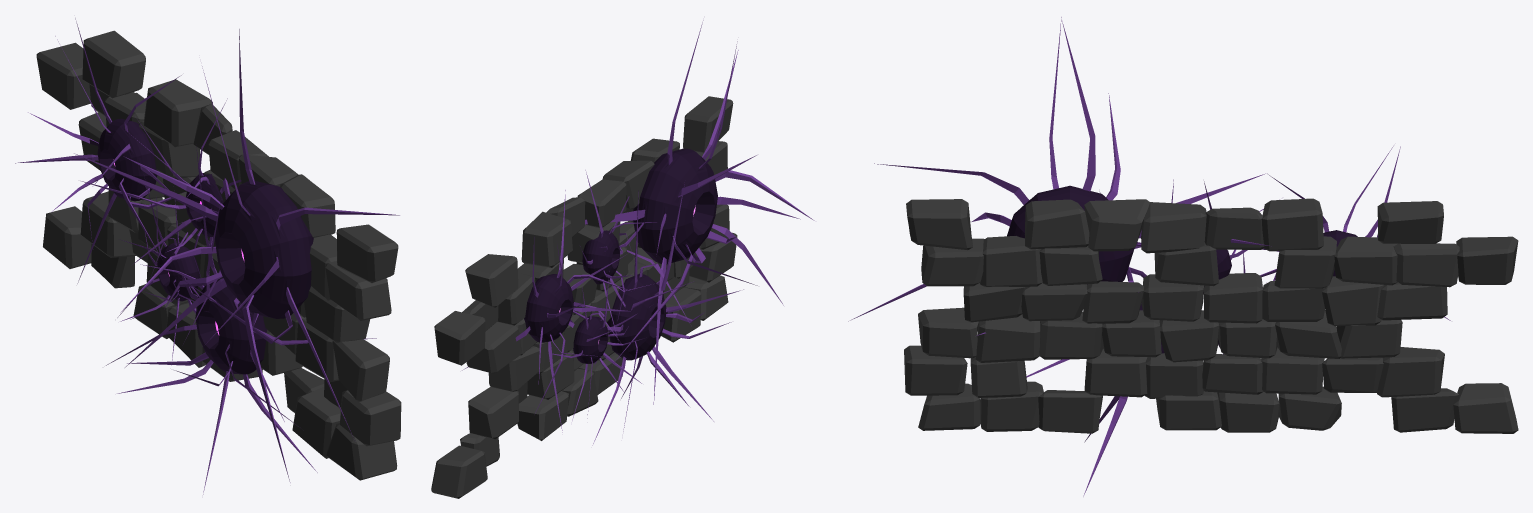
The model's file is FruitBarrier.fbx.
3 renders of one model, left to right at view 1: azimuth 30°, elevation 25°; view 2: azimuth 150°, elevation 25°; view 3: azimuth 270°, elevation 25°, orthographic. The views are drawn at different scales.
Visible parts, largest first — view 1: Cube, Sphere.003, Sphere.004, Sphere.001, Sphere.002, Sphere; view 2: Cube, Sphere.003, Sphere.004, Sphere.001, Sphere, Sphere.002; view 3: Cube, Sphere.003, Sphere.004, Sphere.001.
Boxes of the visible parts, x1,y1,x2,y2 form: Cube: [36, 30, 401, 480]; Sphere.003: [74, 29, 399, 482]; Sphere.004: [106, 144, 317, 494]; Sphere.001: [15, 18, 186, 283]; Sphere.002: [117, 174, 199, 365]; Sphere: [124, 98, 241, 278]; Cube: [431, 96, 737, 498]; Sphere.003: [585, 20, 814, 404]; Sphere.004: [573, 182, 743, 445]; Sphere.001: [462, 190, 631, 432]; Sphere: [580, 170, 656, 340]; Sphere.002: [552, 270, 650, 420]; Cube: [904, 198, 1518, 433]; Sphere.003: [848, 17, 1271, 335]; Sphere.004: [1026, 179, 1173, 496]; Sphere.001: [1260, 146, 1450, 320].
Bounding box in the file's own units: 1127 × 2624 × 3626.
